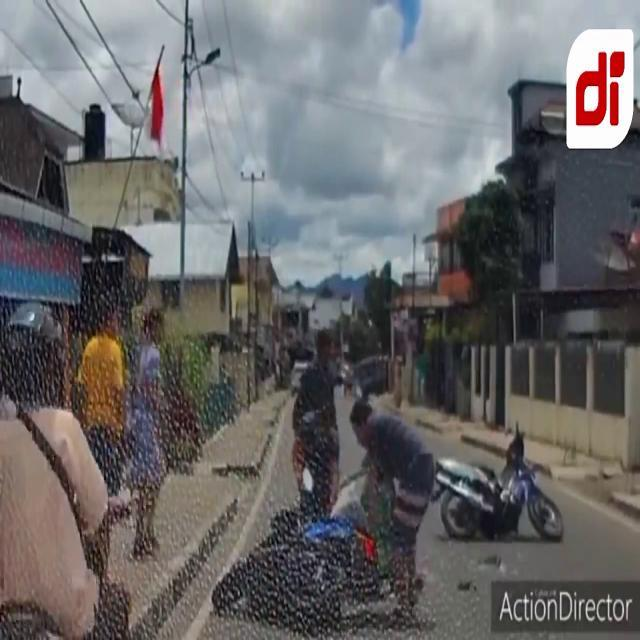multiple_accident: (199, 330, 558, 632)
